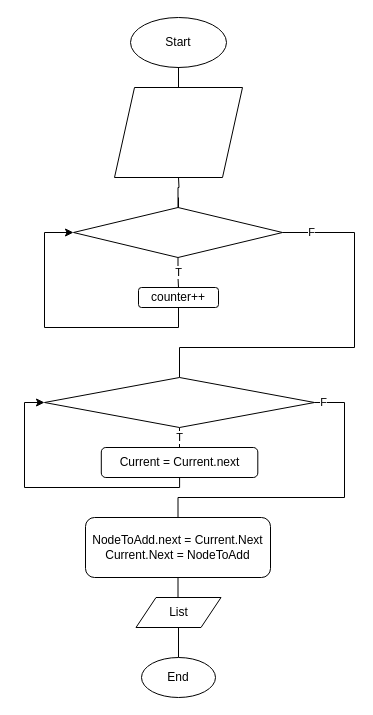
This 373x715 diagram has some shape labels left out. Here are the shapes that lost their labels. From the top down, the centre of each, then its label:
pixel 178 132: List CountOfNodes counter =0 Current NodeToAdd
pixel 177 232: counter < =CountOfNodes / 2
pixel 179 402: i = 1; i<=CountOfNodes; i++
